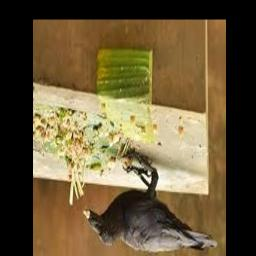Crow: (86, 160, 218, 253)
